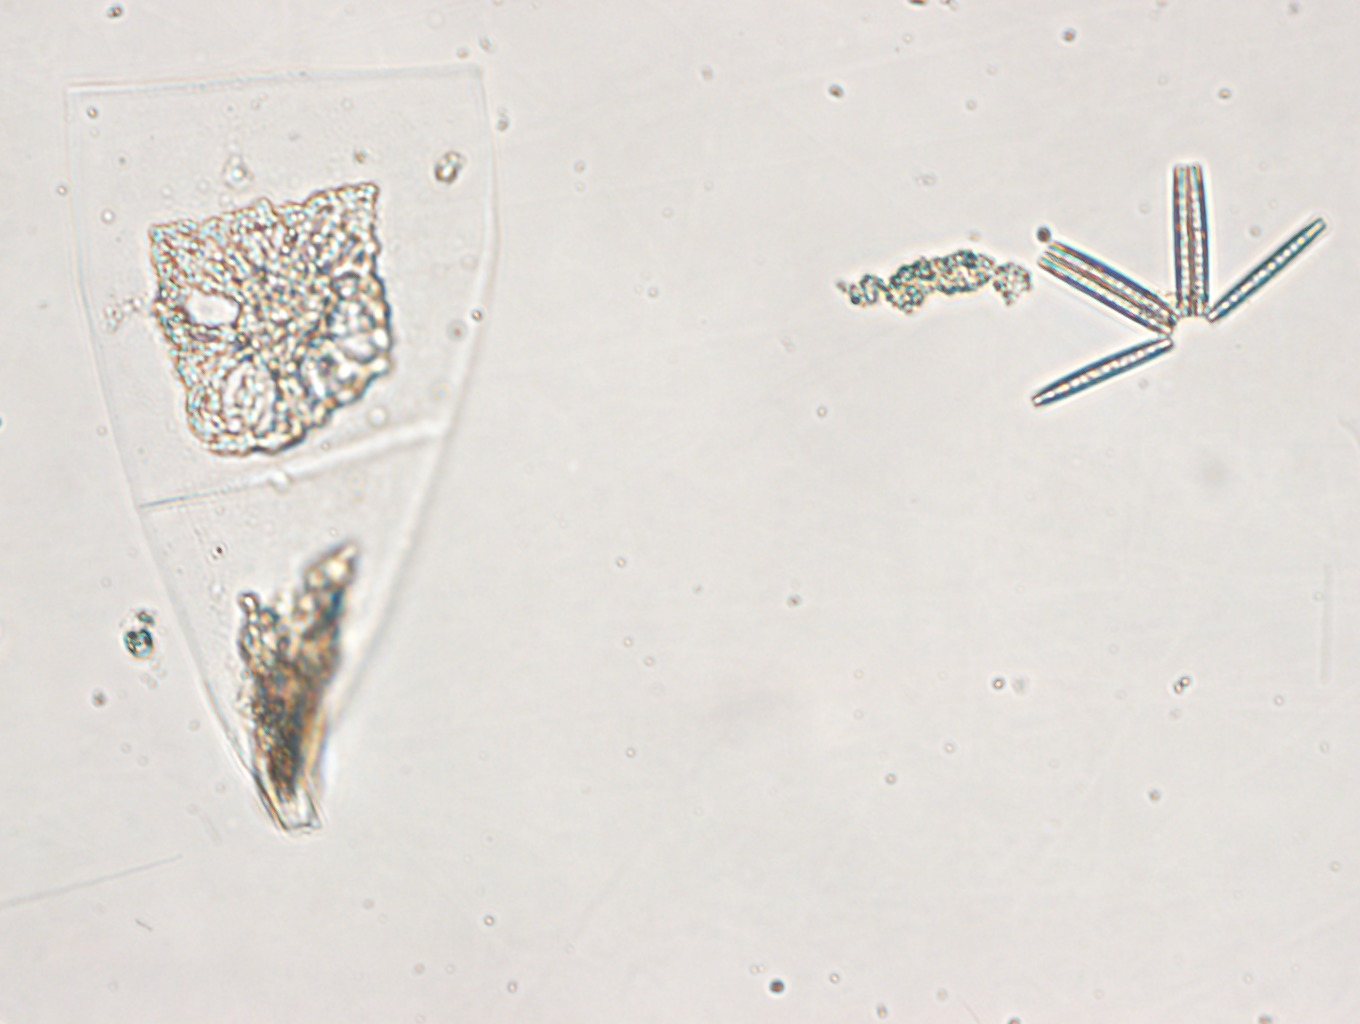helicotheca: (61, 56, 504, 835)
thalassionema nitzschioides: (1025, 158, 1332, 406)
